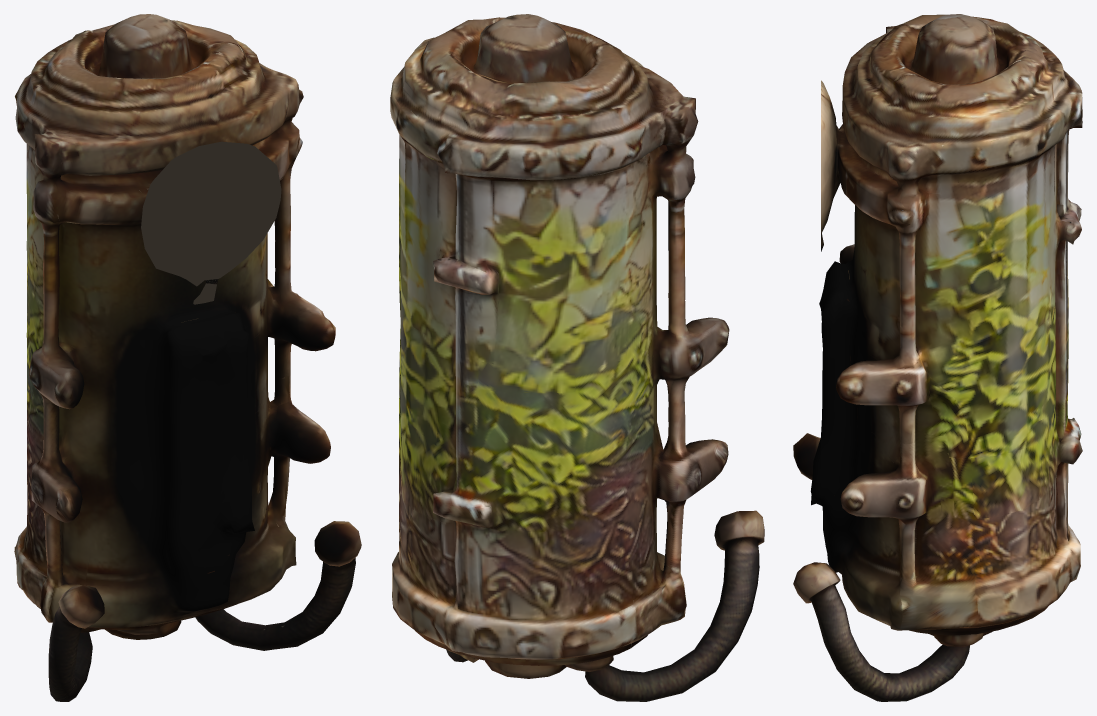
3 renders of one model, left to right at view 1: azimuth 30°, elevation 25°; view 2: azimuth 150°, elevation 25°; view 3: azimuth 270°, elevation 25°, orthographic. The views are drawn at different scales.
Parts seen in each view (by area): view 1: Robot_Back_Tank; view 2: Robot_Back_Tank; view 3: Robot_Back_Tank.
Boxes of the visible parts, x1,y1,x2,y2 form: Robot_Back_Tank: [14, 14, 361, 701]; Robot_Back_Tank: [390, 14, 764, 701]; Robot_Back_Tank: [793, 14, 1082, 701].
Bounding box in the file's own units: 0.4112 × 0.8252 × 0.3429.
Materials: 2 (1 with a texture image).
